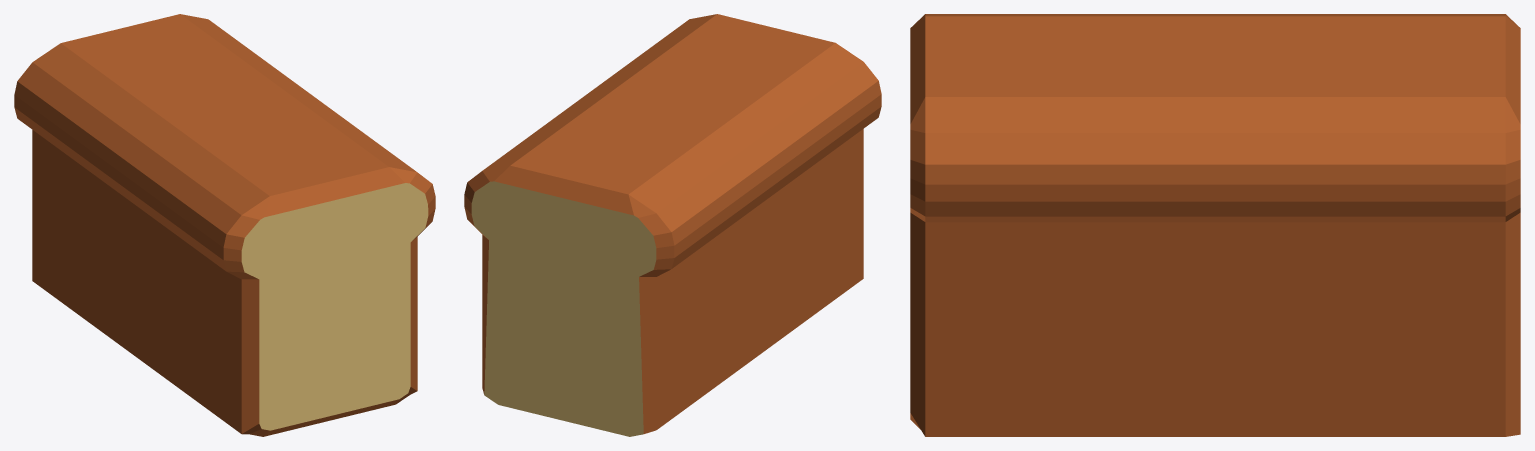
The model's file is toast_bread_side.fbx.
The picture shows the model from 3 angles, left to right: view 1: azimuth 30°, elevation 25°; view 2: azimuth 150°, elevation 25°; view 3: azimuth 270°, elevation 25°; orthographic projection. The views are drawn at different scales.
Visible parts, largest first — view 1: Toast; view 2: Toast; view 3: Toast.
Part boxes in pixels (box(x1,y1,x2,y2)): Toast: box(14, 14, 435, 436); Toast: box(464, 14, 881, 436); Toast: box(910, 14, 1520, 436).
Bounding box in the file's own units: 9.99 × 10.77 × 17.95.
